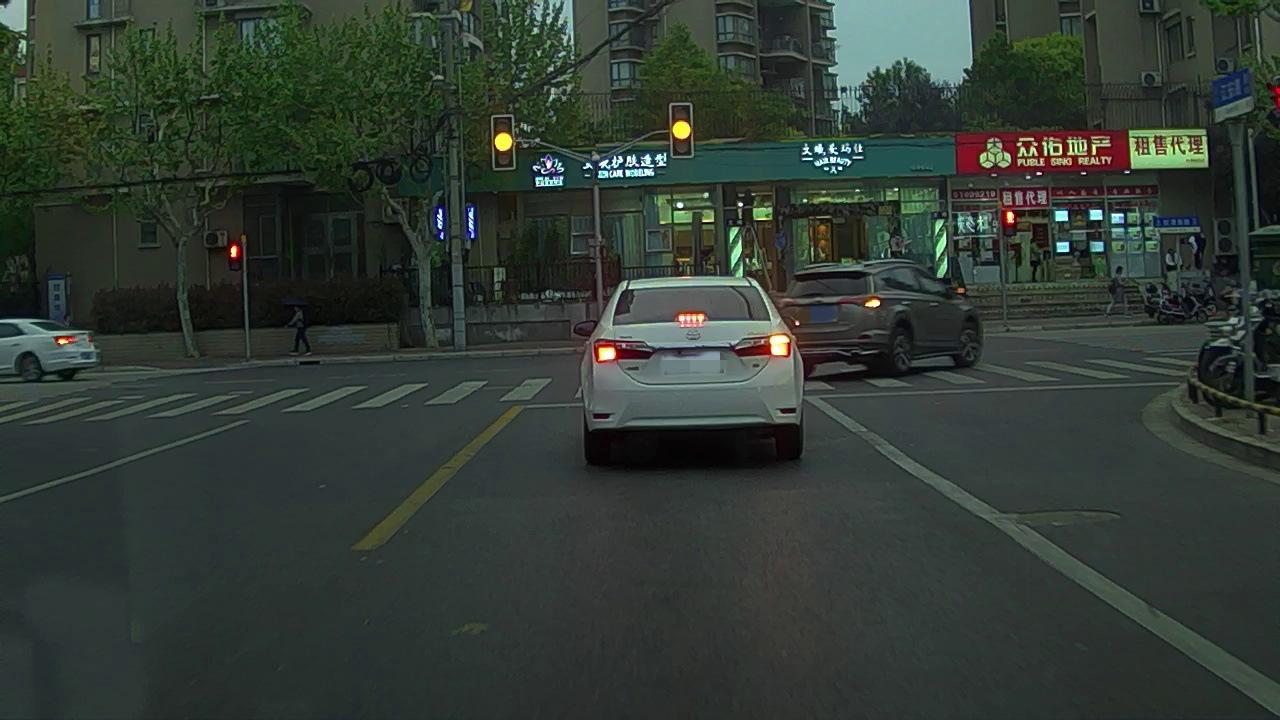traffic_light: (493, 115, 515, 170), (671, 104, 693, 157)
